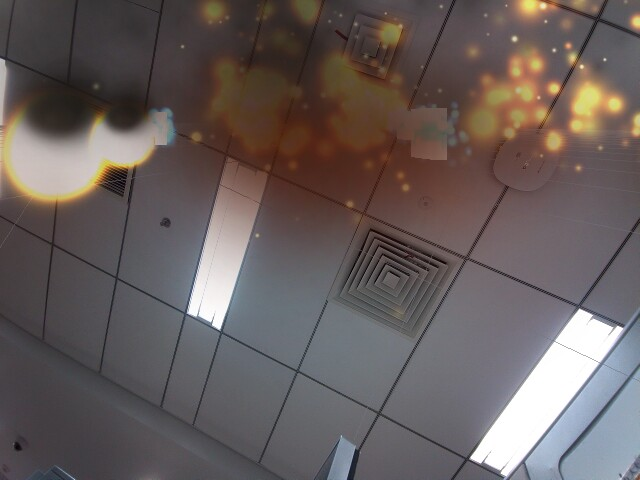fire: (5, 84, 110, 206), (93, 102, 159, 169)
